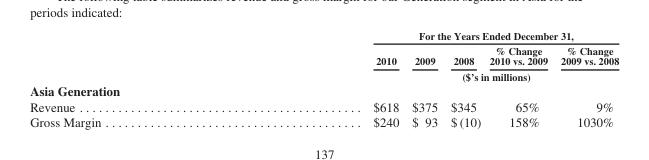table: (29, 29, 618, 129)
table column: (29, 29, 236, 129), (236, 29, 404, 129), (484, 29, 553, 129), (553, 29, 618, 129), (443, 29, 484, 129), (404, 29, 443, 129)
table column header: (29, 29, 618, 82)
table projected row header: (29, 82, 618, 98)
table row: (29, 42, 618, 68), (29, 82, 618, 98), (29, 98, 618, 114), (29, 114, 618, 129), (29, 68, 618, 82), (29, 29, 618, 42)
table spanning cell: (236, 68, 618, 82), (236, 29, 618, 42)
